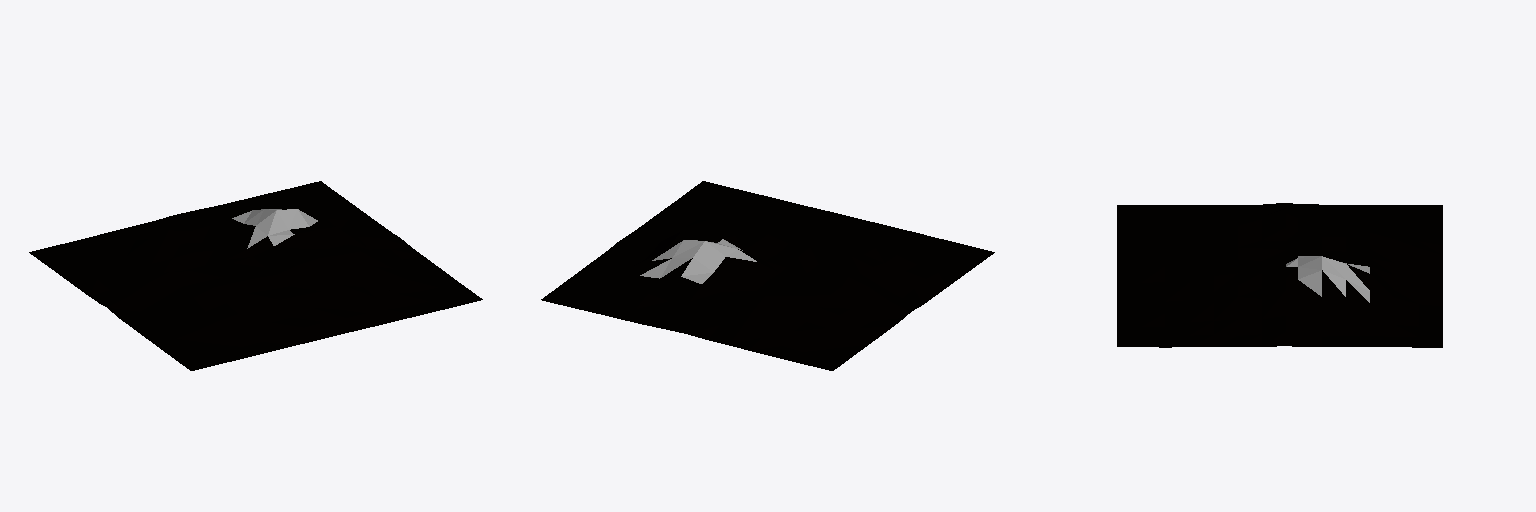
File: Mountain_02.obj
The picture shows the model from 3 angles: view 1: azimuth 30°, elevation 25°; view 2: azimuth 150°, elevation 25°; view 3: azimuth 270°, elevation 25°; orthographic projection.
Parts seen in each view (by area): view 1: Plane.001; view 2: Plane.001; view 3: Plane.001.
Part boxes in pixels (x1,y1,x2,y2): Plane.001: (29,181,482,370); Plane.001: (541,181,994,370); Plane.001: (1117,203,1442,347).
Size of the model in its own units: 127 by 16.84 by 123.